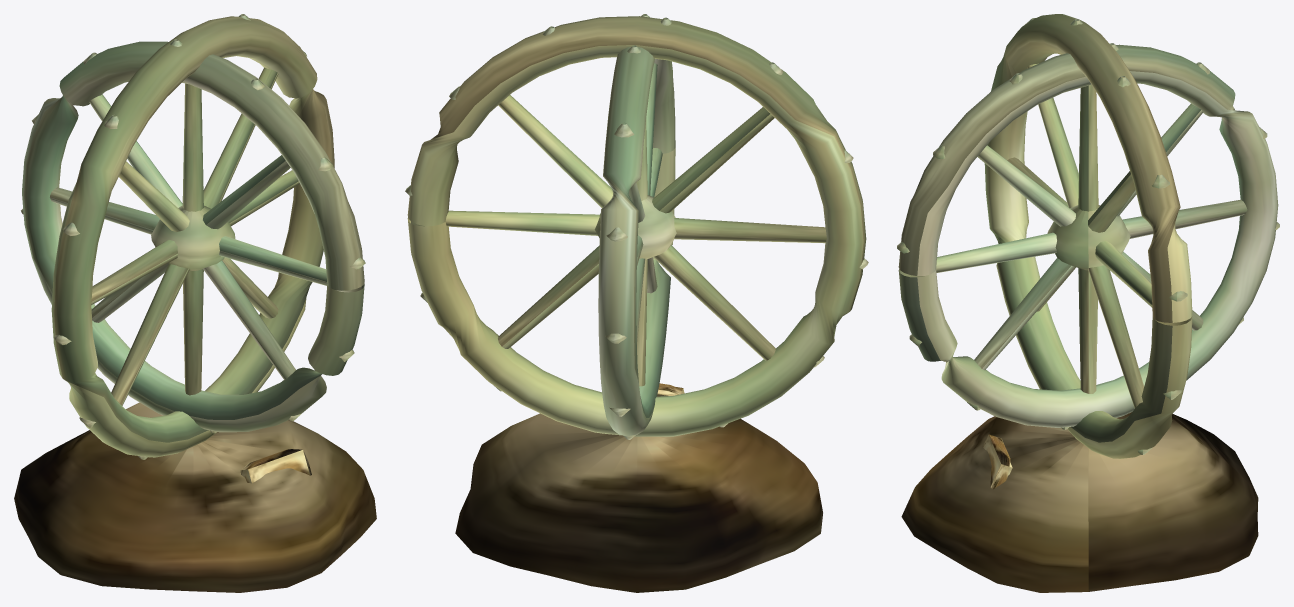
File: wheel-within-a-wheel.glb
The picture shows the model from 3 angles, left to right: view 1: azimuth 30°, elevation 25°; view 2: azimuth 150°, elevation 25°; view 3: azimuth 270°, elevation 25°; orthographic projection. The views are drawn at different scales.
Parts seen in each view (by area): view 1: HeroRelicMonument; view 2: HeroRelicMonument; view 3: HeroRelicMonument.
Part boxes in pixels (x1,y1,x2,y2): HeroRelicMonument: (14,14,376,592); HeroRelicMonument: (405,14,868,592); HeroRelicMonument: (897,14,1279,592).
Size of the model in its own units: 1.79 by 2.29 by 1.63.
Materials: 1 (1 with a texture image).
